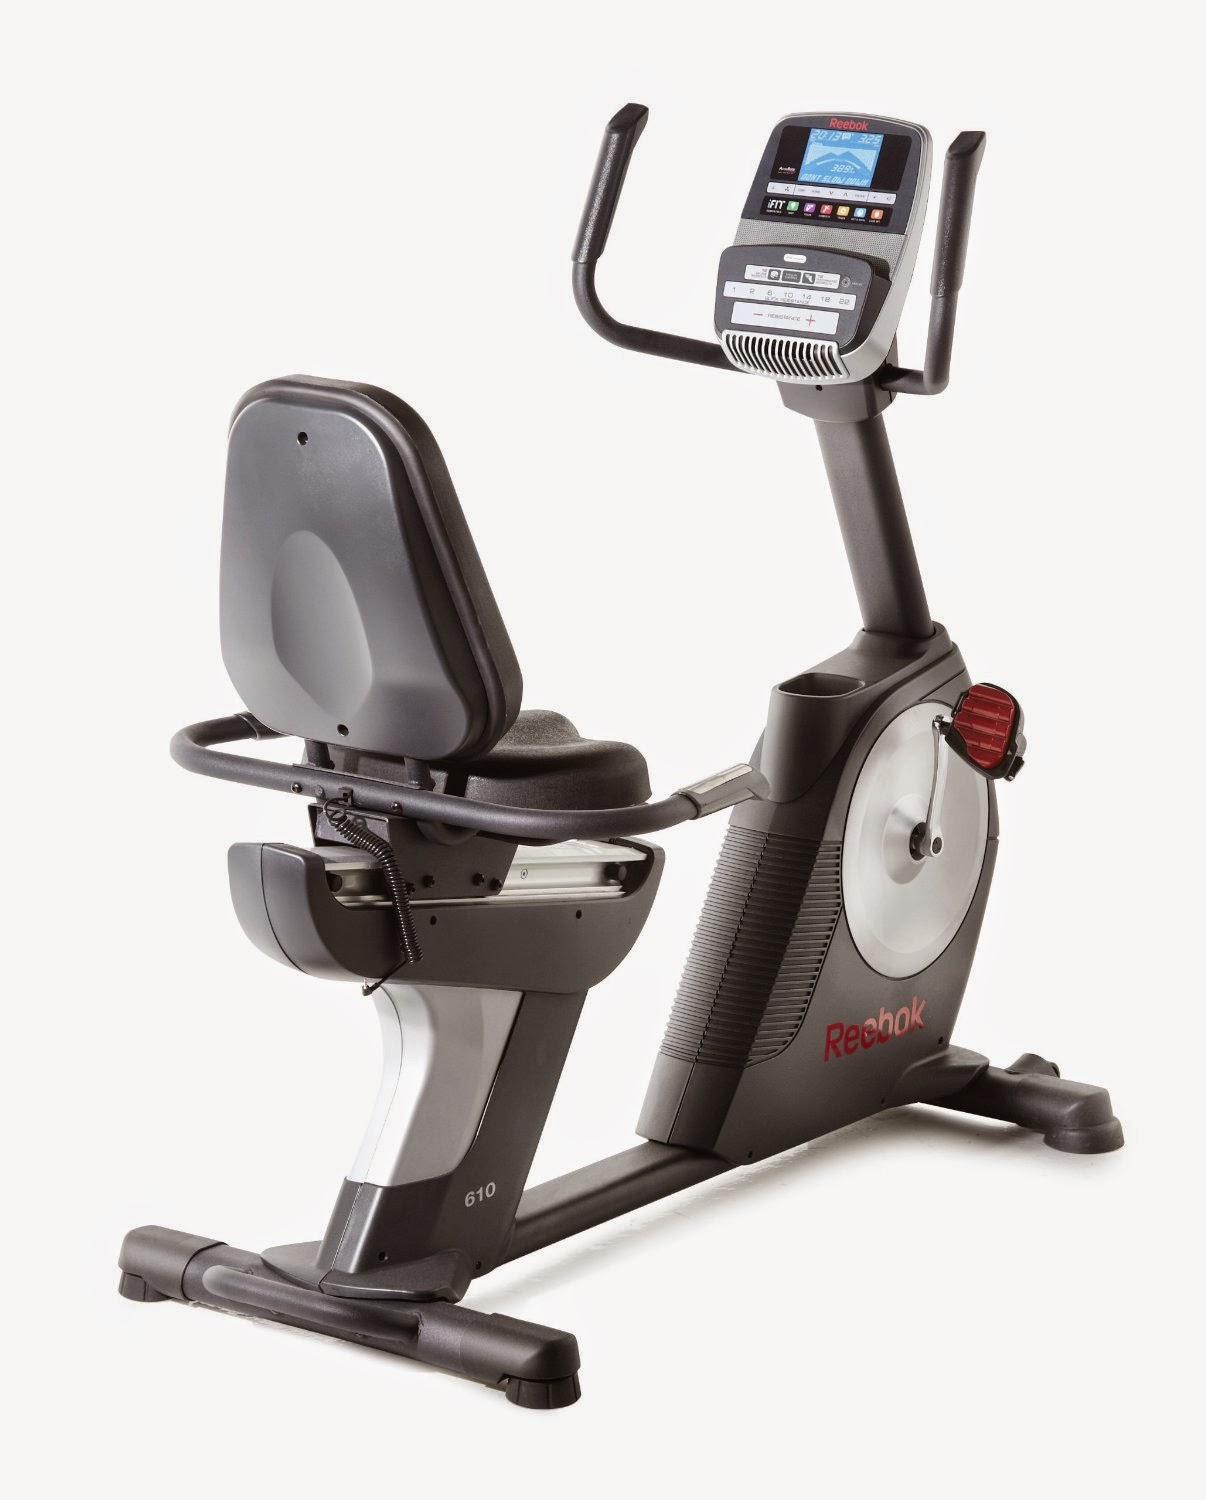gym_bike: (121, 100, 1116, 1414)
